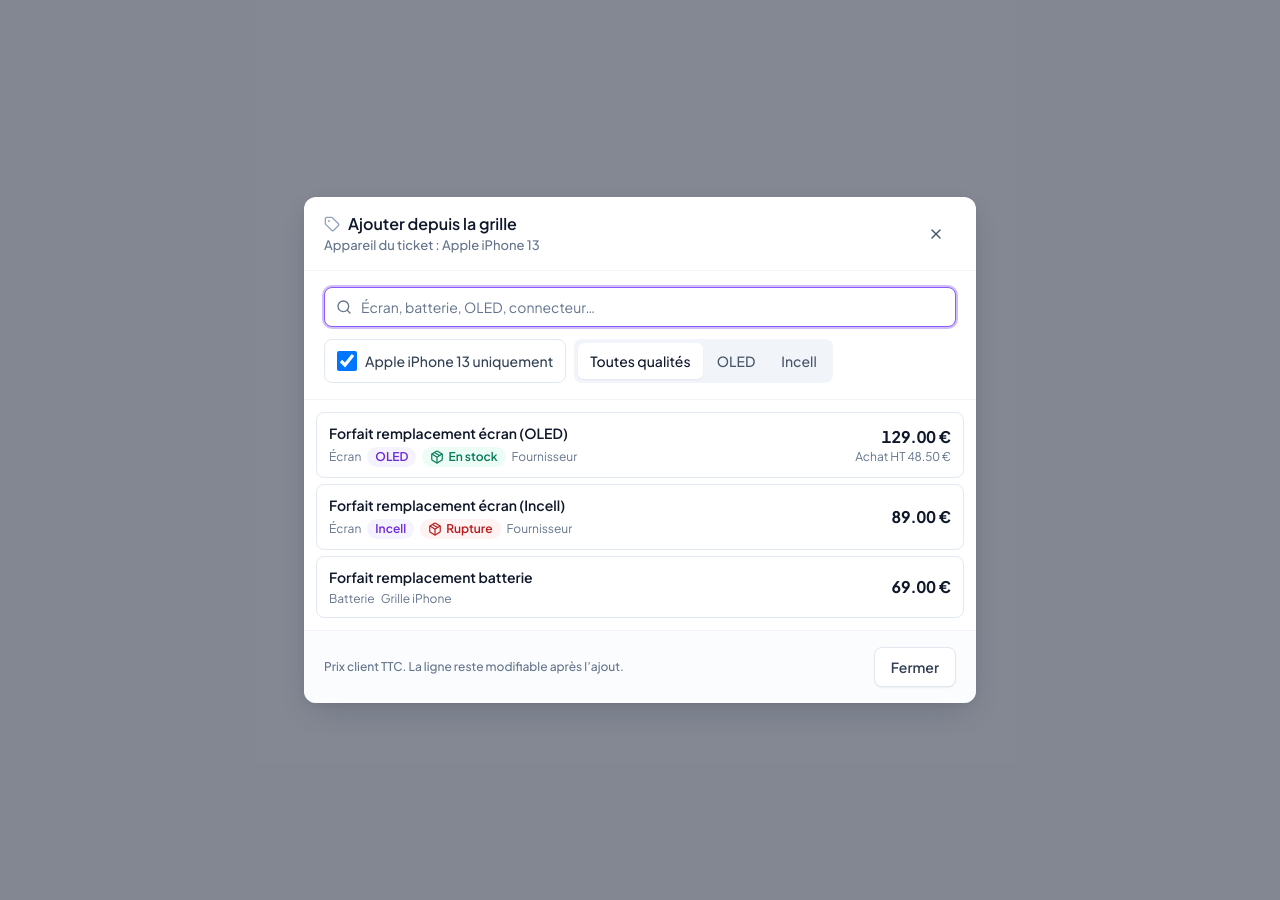
Test: TarifPicker › filtré sur l’appareil, prix client ; prix d’achat réservé à l’admin ; filtre qualité
The width and height of the screenshot is (1280, 900).
Check: the text "Forfait remplacement écran (OLED)" is shown, box [329,424,568,442]
Check: the text "129.00 €" is shown, box [882,426,951,447]
Click the button "Incell" at (799,361), box [769,343,829,379]
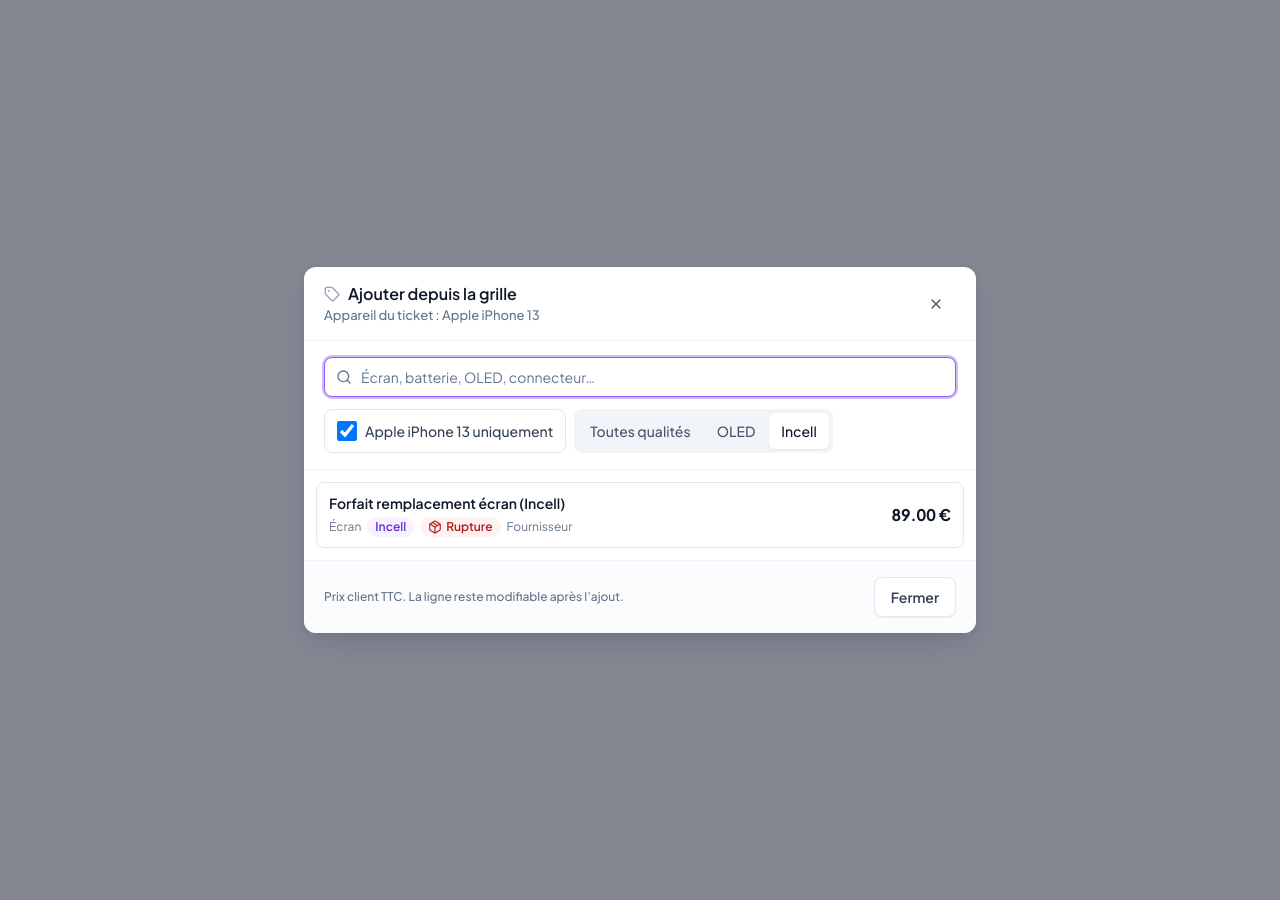
Check: the text "Forfait remplacement écran (Incell)" is shown, box [329,494,565,512]
Check: the button "Forfait remplacement écran (OLED)" is gone
